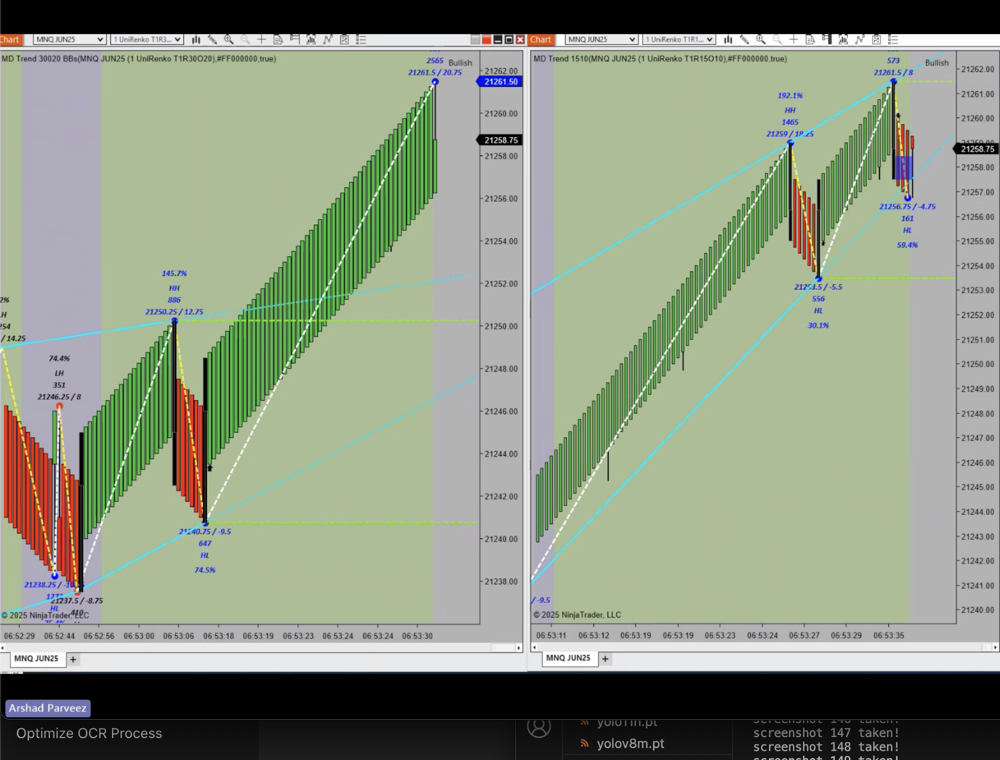HH: (163, 280, 190, 298), (779, 100, 804, 118)
HL: (194, 545, 220, 566), (44, 596, 66, 616), (896, 222, 922, 238), (809, 302, 830, 319)
LH: (47, 365, 74, 383)
